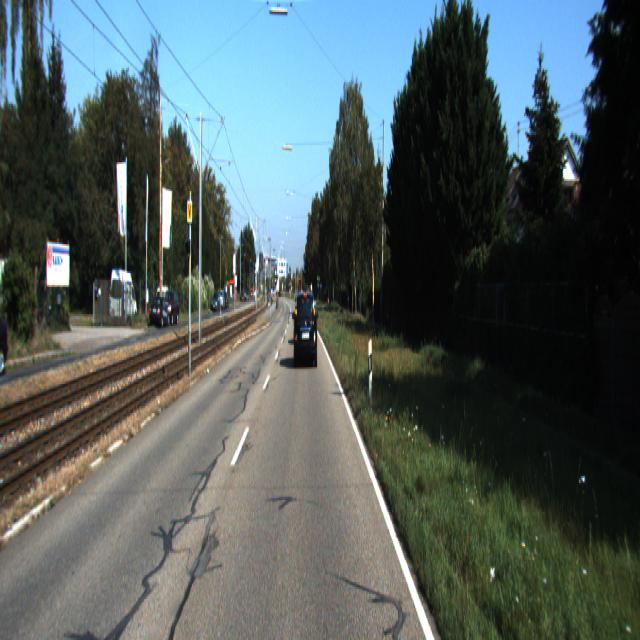Car: (294, 290, 318, 369), (110, 269, 138, 327), (149, 296, 172, 330)
